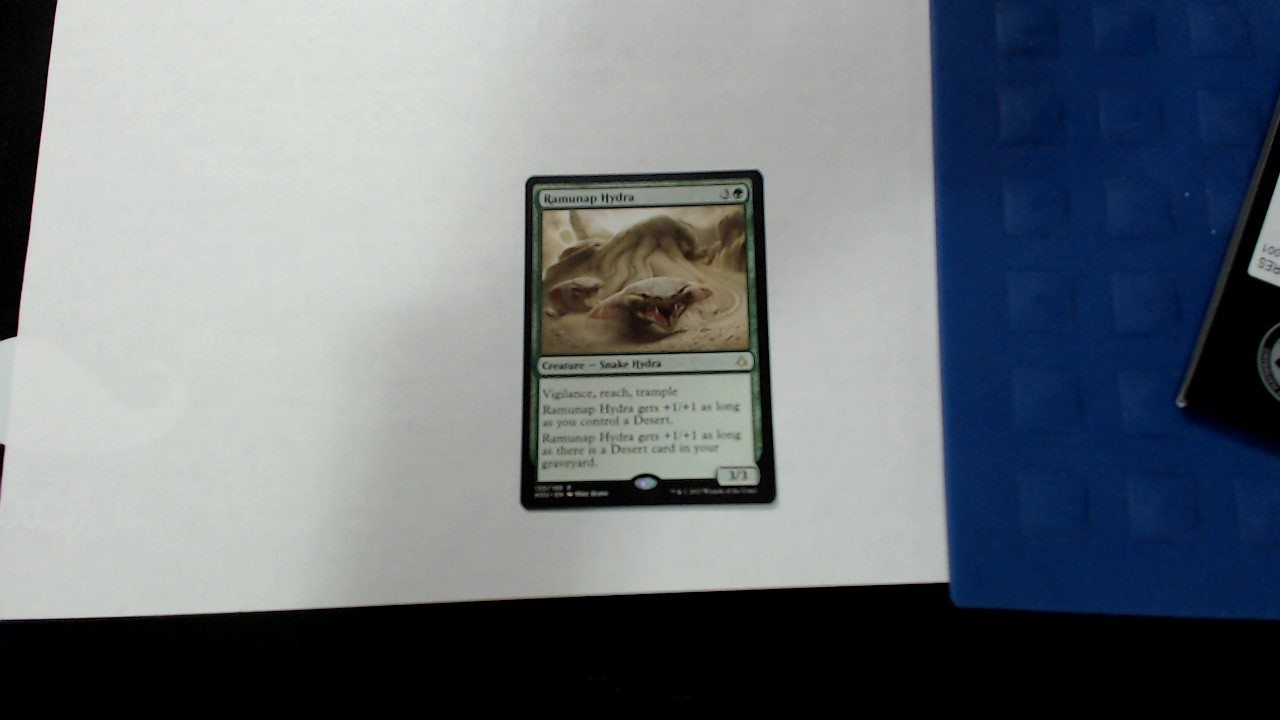MTG Card: (516, 165, 786, 520)
